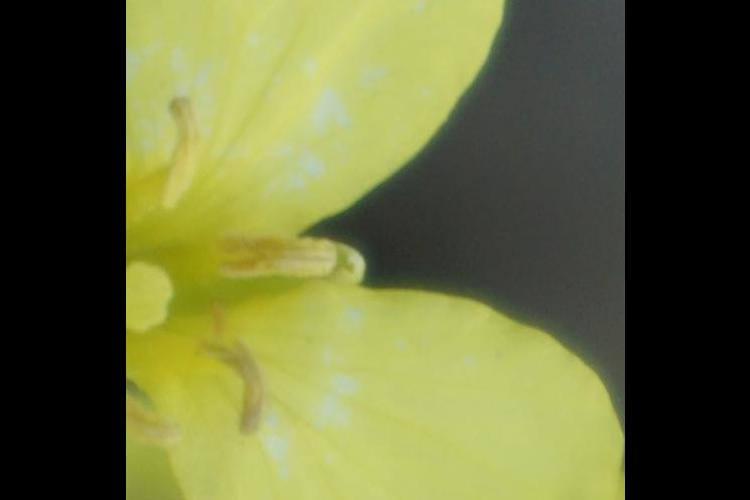yellow: (127, 1, 562, 500)
